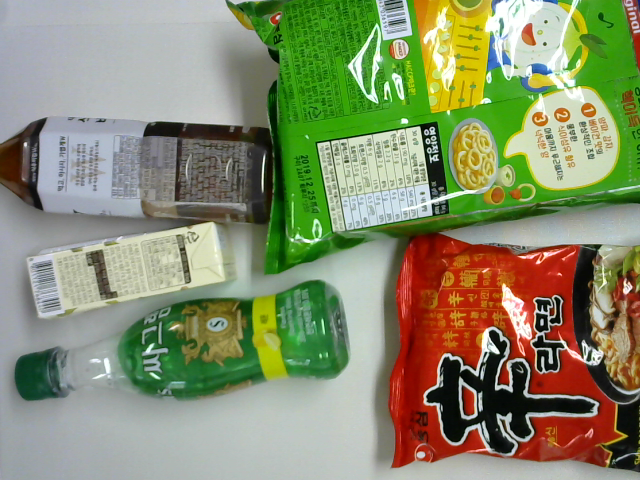99.89_Soymilk: (23, 219, 237, 322)
Oninon_Ring: (224, 1, 639, 278)
Post-meal_recipe_W_tea_500ml: (1, 114, 278, 225)
Seagram_Lemon_Carbonated_Water: (13, 279, 352, 403)
Sinramen: (386, 228, 640, 472)
